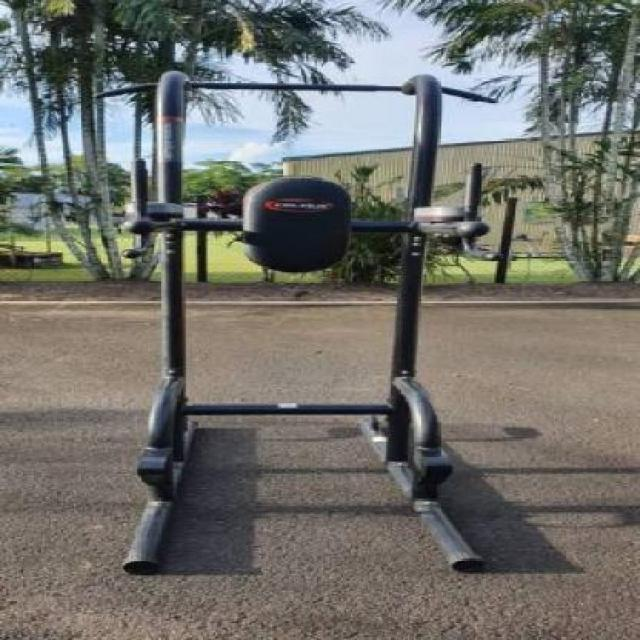chinning dipping: (103, 74, 500, 572)
